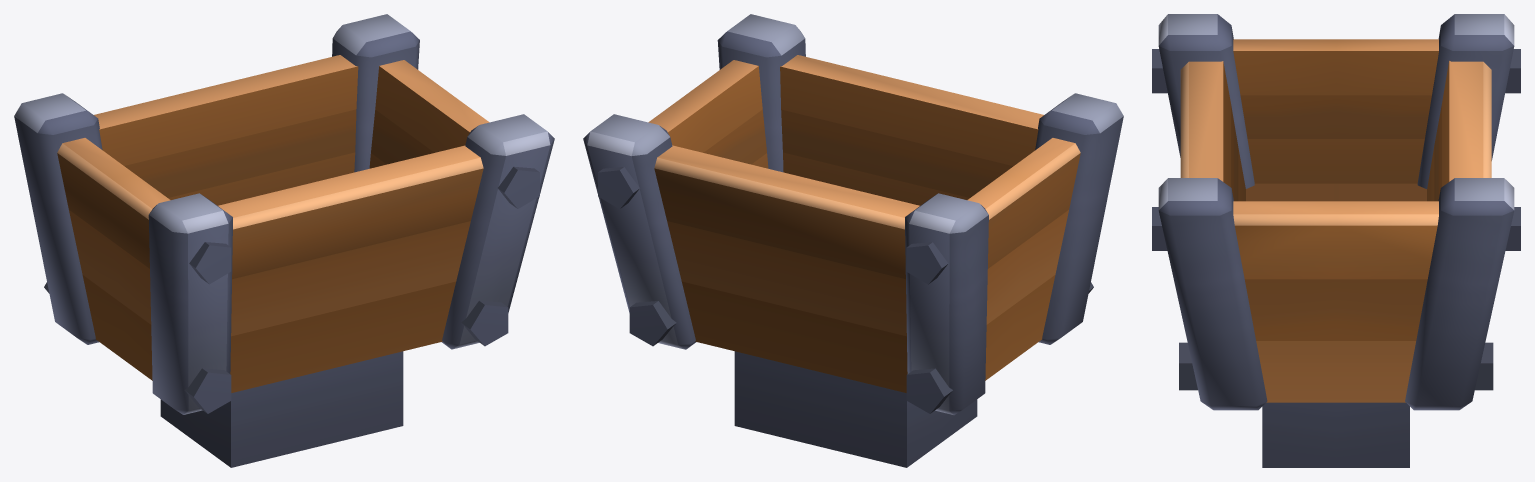
Rendered from factory-cart.obj.
3 views of the same model, side by side, from view 1: azimuth 30°, elevation 25°; view 2: azimuth 150°, elevation 25°; view 3: azimuth 270°, elevation 25° (orthographic). The views are drawn at different scales.
Visible parts, largest first — view 1: factory-cart; view 2: factory-cart; view 3: factory-cart.
Boxes of the visible parts, bbox=[...] form: factory-cart: bbox=[14, 14, 554, 467]; factory-cart: bbox=[583, 14, 1123, 467]; factory-cart: bbox=[1152, 14, 1520, 467].
Size of the model in its own units: 4.63 by 3.51 by 3.69.
Materials: 1 (1 with a texture image).
